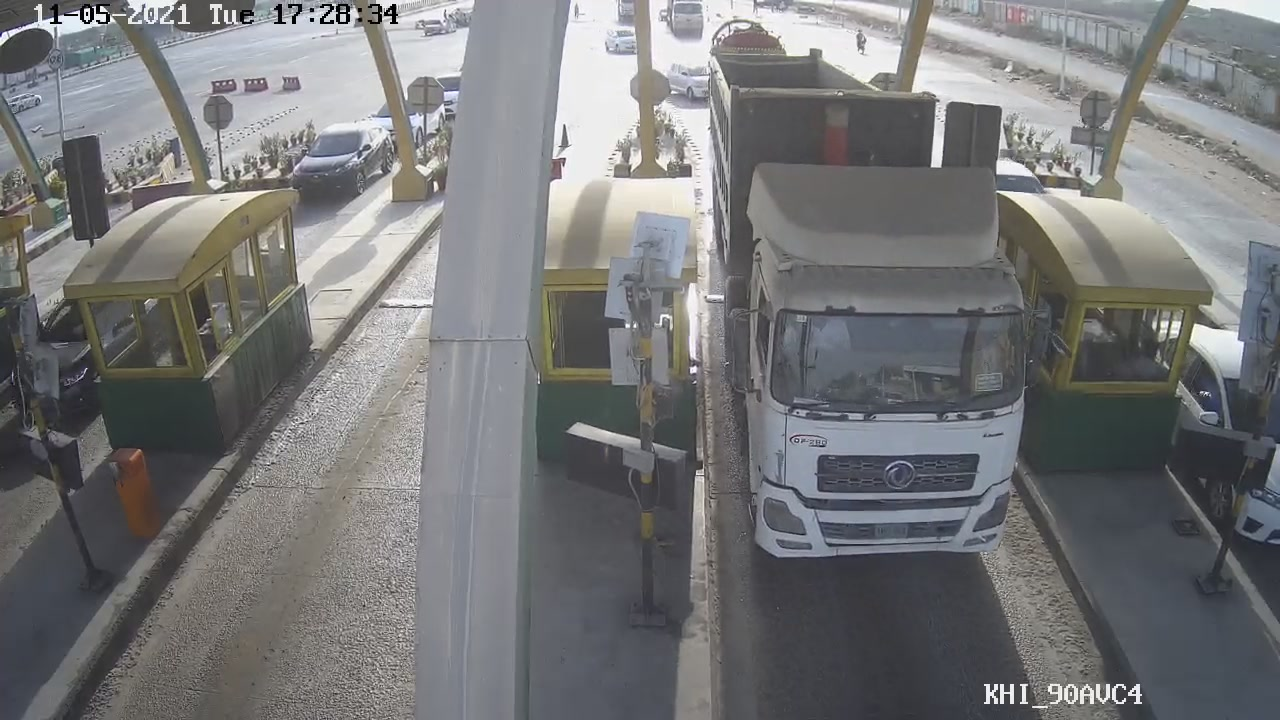F6: (698, 63, 1065, 563)
